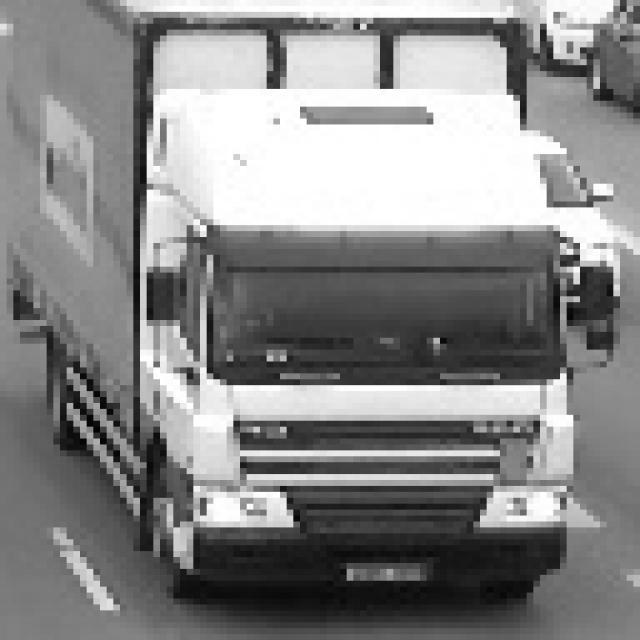truck: (118, 64, 614, 611)
